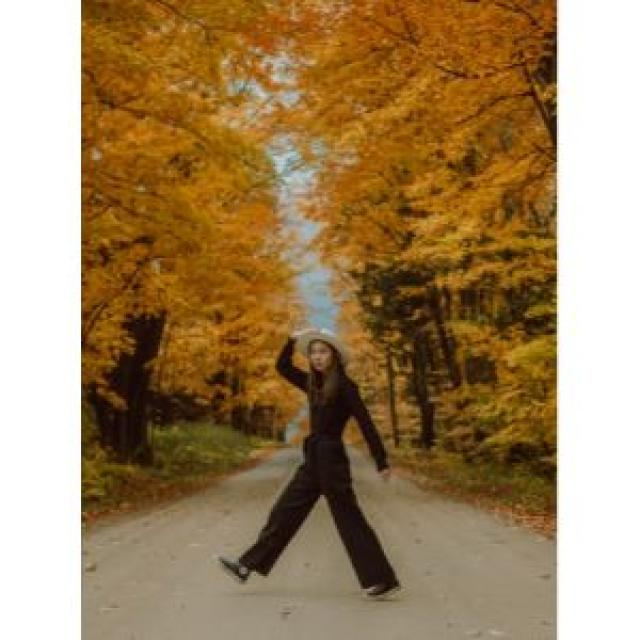nonfall: (212, 303, 412, 614)
